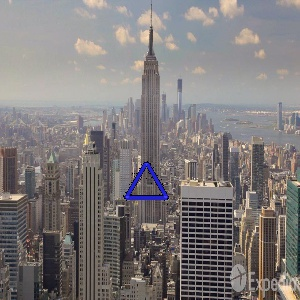triangle: (118, 160, 174, 206)
